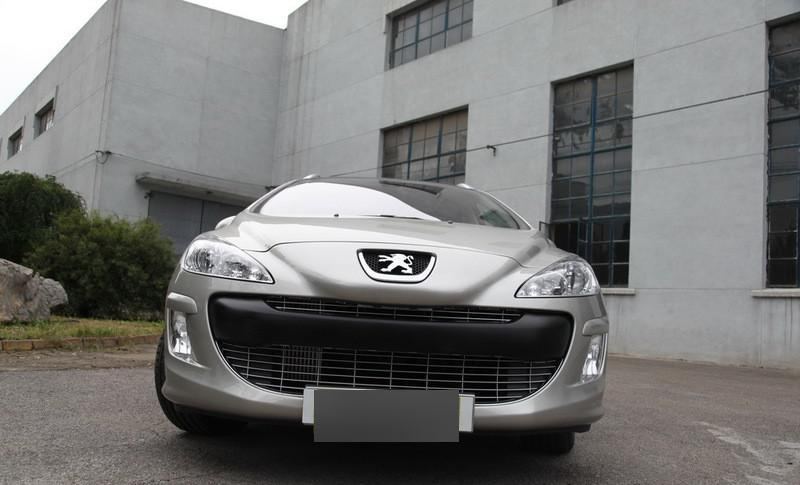Wagon: (154, 173, 611, 453)
